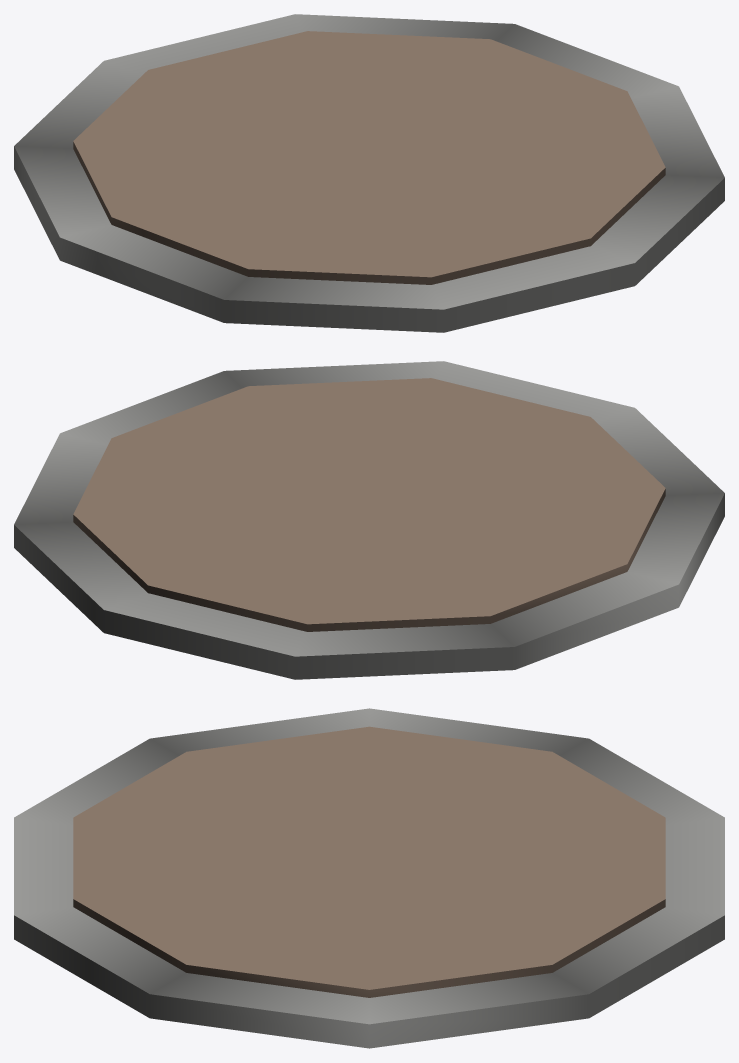
Rendered from manhole.lod1.glb.
The picture shows the model from 3 angles, top to bottom: view 1: azimuth 30°, elevation 25°; view 2: azimuth 150°, elevation 25°; view 3: azimuth 270°, elevation 25°; orthographic projection. The views are drawn at different scales.
Parts seen in each view (by area): view 1: props_manhole.lod1; view 2: props_manhole.lod1; view 3: props_manhole.lod1.
Boxes of the visible parts, x1=… form: props_manhole.lod1: x1=14, y1=14, x2=724, y2=332; props_manhole.lod1: x1=14, y1=361, x2=724, y2=679; props_manhole.lod1: x1=14, y1=708, x2=724, y2=1048.
Bounding box in the file's own units: 0.84 × 0.04 × 0.7989.
